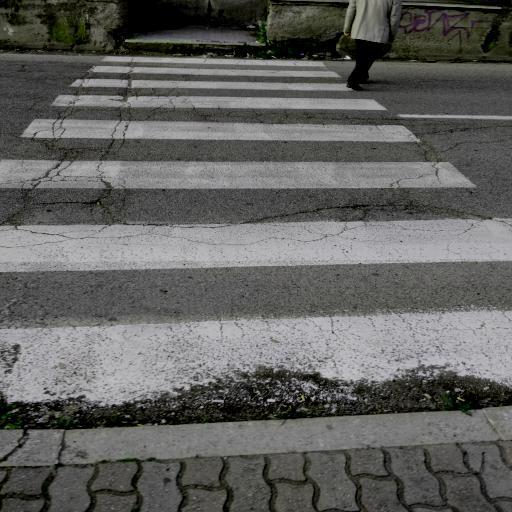crosswalk: (0, 203, 512, 422), (18, 92, 432, 152)
